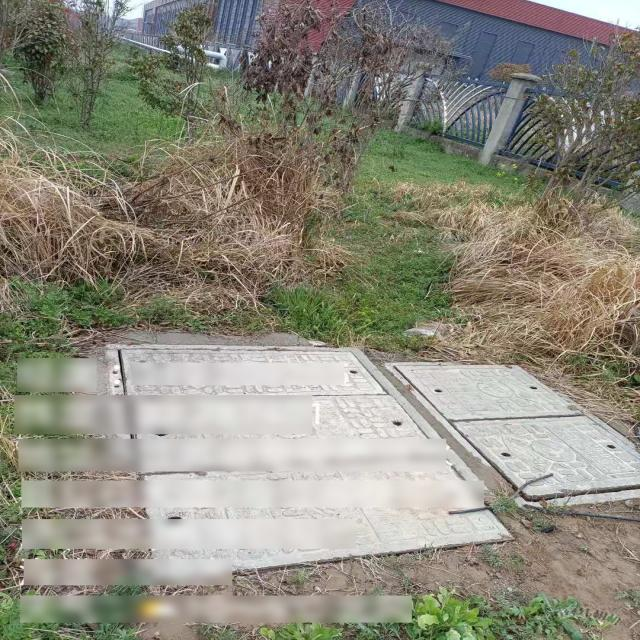Good: (102, 342, 518, 578), (386, 360, 640, 508)
